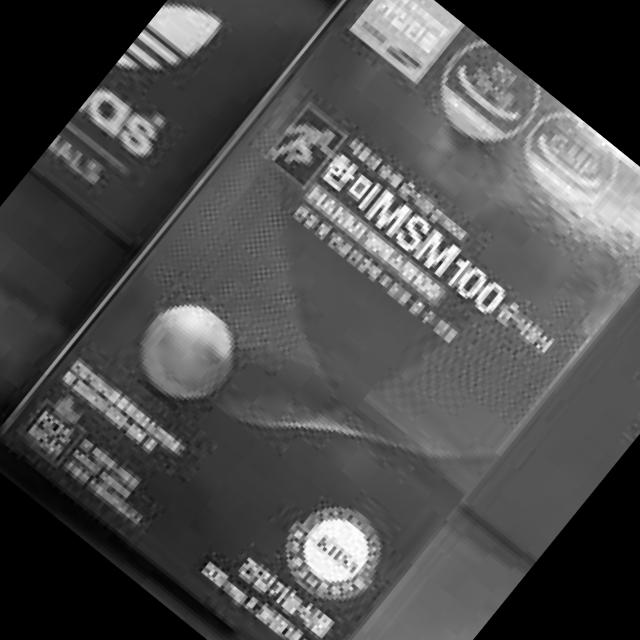GMP: (505, 98, 632, 220)
HEALTHY: (415, 30, 551, 163)
